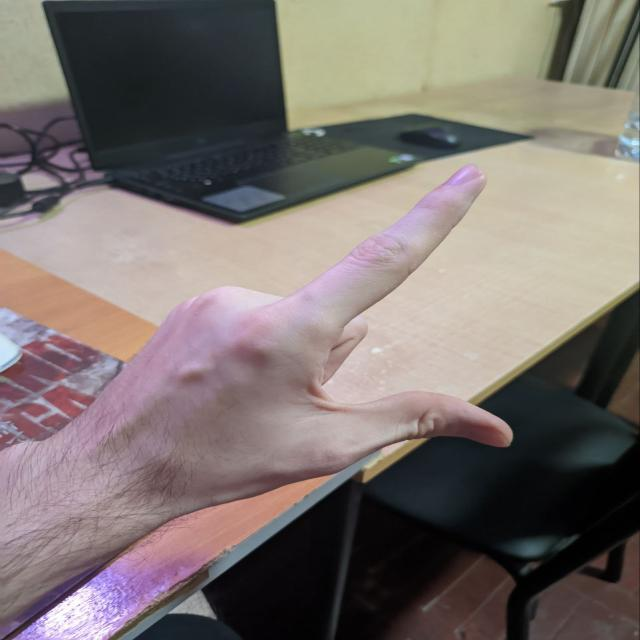-: (113, 156, 561, 485)
